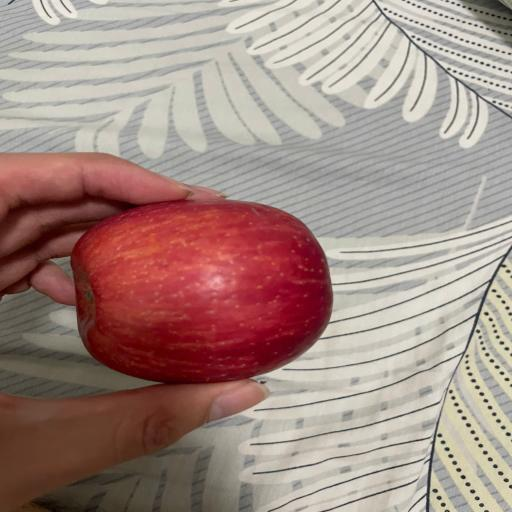apple: (71, 200, 333, 383)
